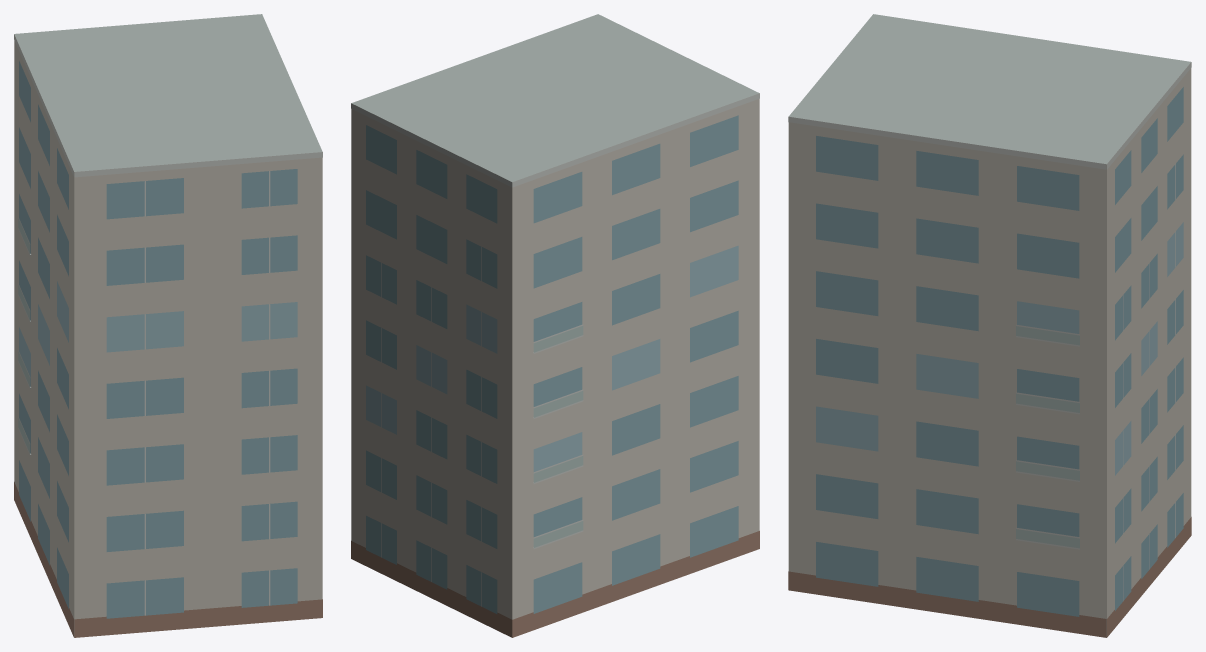
Rendered from survey-upis-32882582.glb.
3 views of the same model, side by side, from view 1: azimuth 30°, elevation 25°; view 2: azimuth 150°, elevation 25°; view 3: azimuth 270°, elevation 25° (orthographic). The views are drawn at different scales.
Parts seen in each view (by area): view 1: survey-upis-32882582.tmp; view 2: survey-upis-32882582.tmp; view 3: survey-upis-32882582.tmp.
Boxes of the visible parts, x1,y1,x2,y2 form: survey-upis-32882582.tmp: (14,14,322,637); survey-upis-32882582.tmp: (351,14,759,637); survey-upis-32882582.tmp: (788,14,1191,637).
Size of the model in its own units: 14.16 by 20.8 by 16.05.
